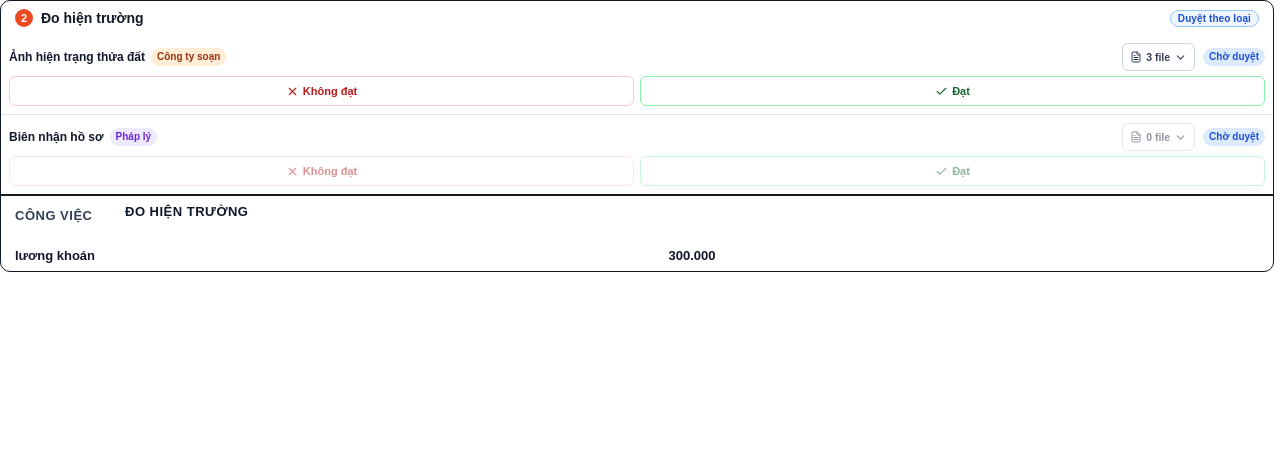
Test: Card checklist › bấm tên loại giấy cũng xổ danh sách file để Giám đốc đọc
Click the button with aria-label "Mở file của loại giấy Ảnh hiện trạng thửa đất" at [77, 57], box [9,49,145,65]
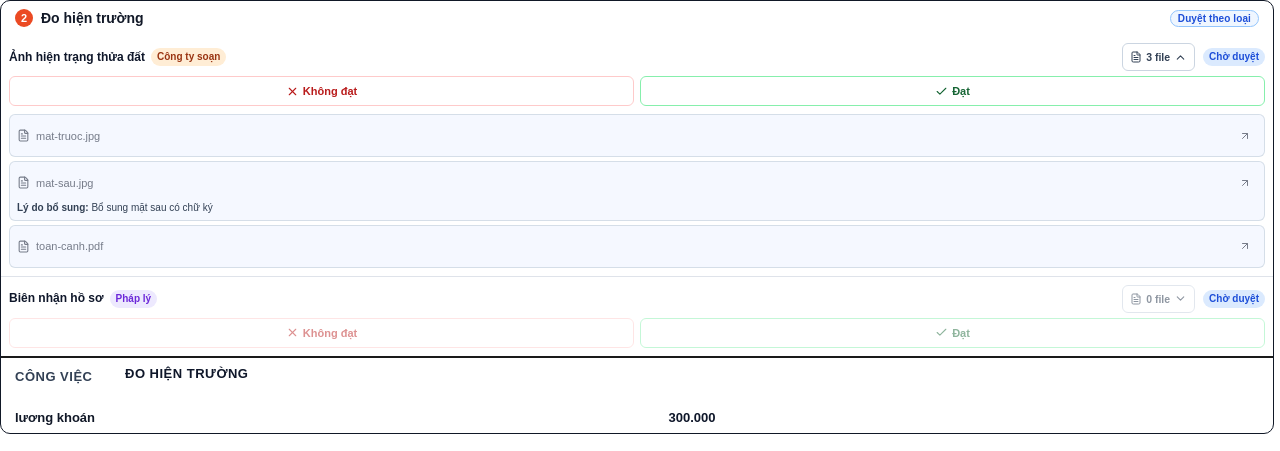
Result: the text "mat-truoc.jpg" is shown at [36,130,100,142]
Result: the text "mat-sau.jpg" is shown at [36,176,94,188]
Result: the text "toan-canh.pdf" is shown at [36,240,103,252]
